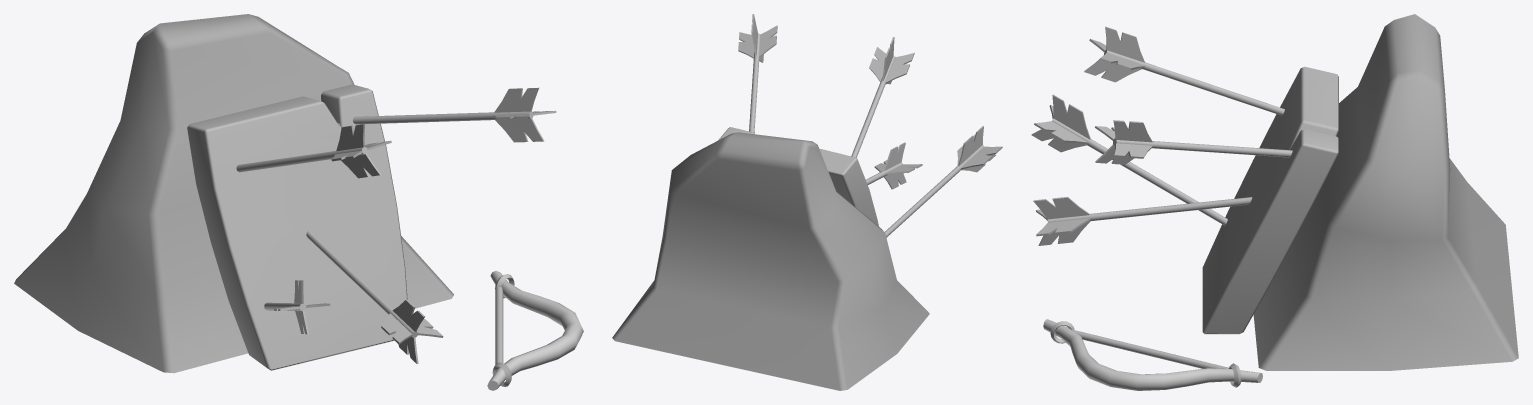
File: ArcherTrainer_lvl2.fbx
3 views of the same model, side by side, from view 1: azimuth 30°, elevation 25°; view 2: azimuth 150°, elevation 25°; view 3: azimuth 270°, elevation 25° (orthographic). The views are drawn at different scales.
Visible parts, largest first — view 1: Lvl2_ArcherTrainer; view 2: Lvl2_ArcherTrainer; view 3: Lvl2_ArcherTrainer.
Part boxes in pixels (<box>): Lvl2_ArcherTrainer: <box>14,14,583,390</box>; Lvl2_ArcherTrainer: <box>612,14,1002,390</box>; Lvl2_ArcherTrainer: <box>1031,14,1518,390</box>.
Bounding box in the file's own units: 1.54 × 1.08 × 1.81.
